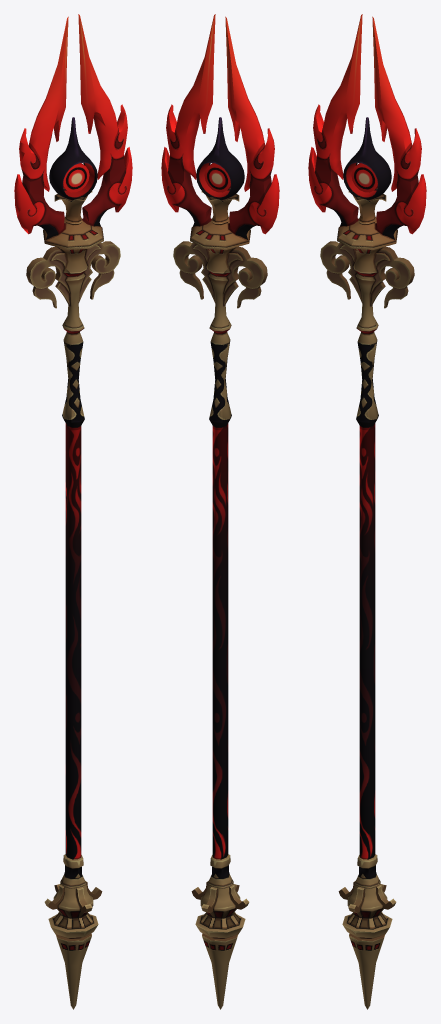
File: humo.fbx
3 views of the same model, side by side, from view 1: azimuth 30°, elevation 25°; view 2: azimuth 150°, elevation 25°; view 3: azimuth 330°, elevation 25° (orthographic).
Parts seen in each view (by area): view 1: Body; view 2: Body; view 3: Body.
Boxes of the visible parts, left/top/right/bottom form: Body: left=14, top=14, right=132, bottom=1009; Body: left=161, top=14, right=279, bottom=1009; Body: left=308, top=14, right=426, bottom=1009.
Size of the model in its own units: 0.2534 by 2.06 by 0.1236.
